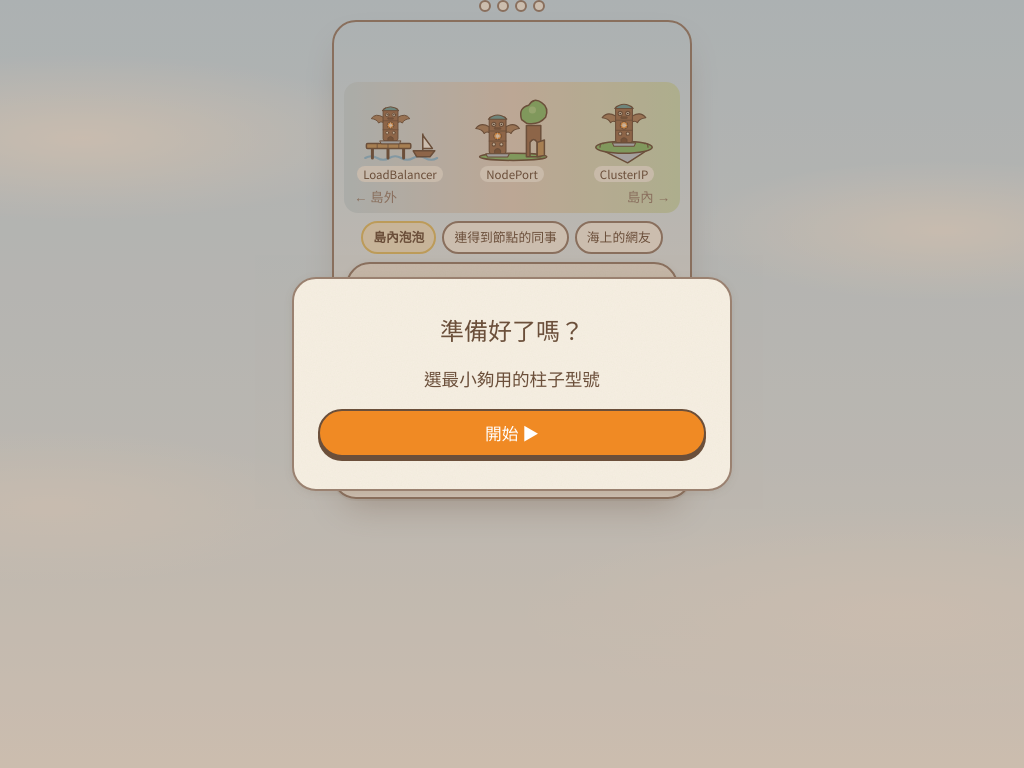
Scenario: Day15Game › 第 2 回合答錯後立刻鎖住選項，retry 後舊計時不會把新局翻回 lost
Click the button with test id "shell-start" at [512, 433], box [318,409,706,457]
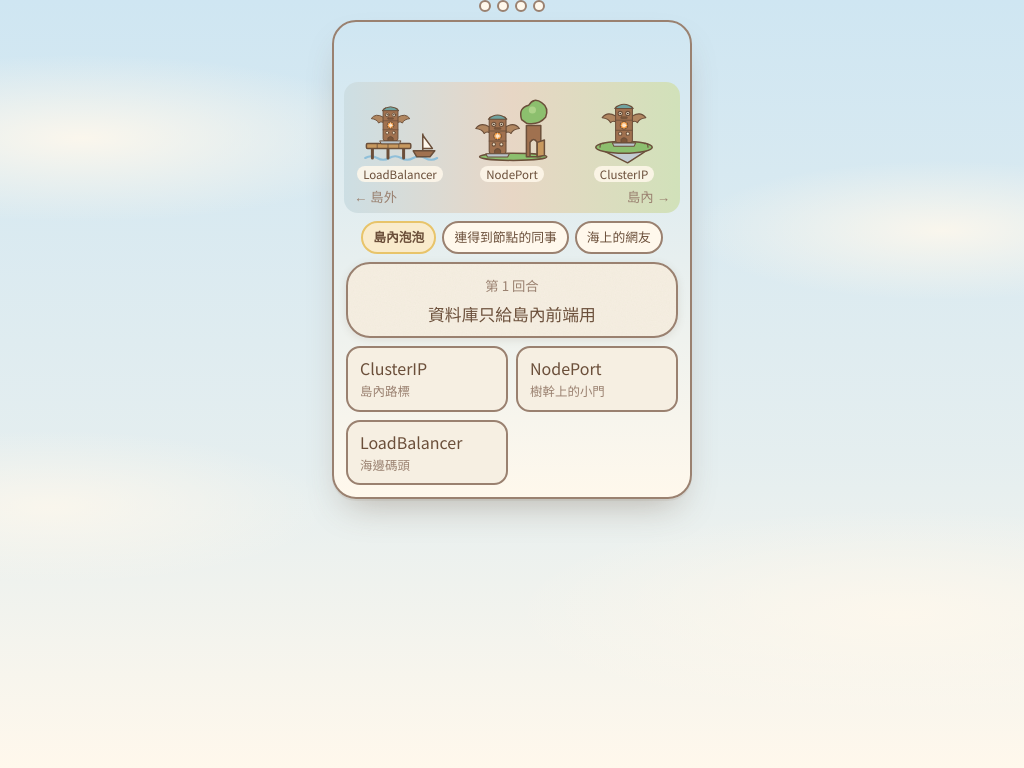
Click the button "NodePort 樹幹上的小門" at [597, 379], box [516,346,678,412]
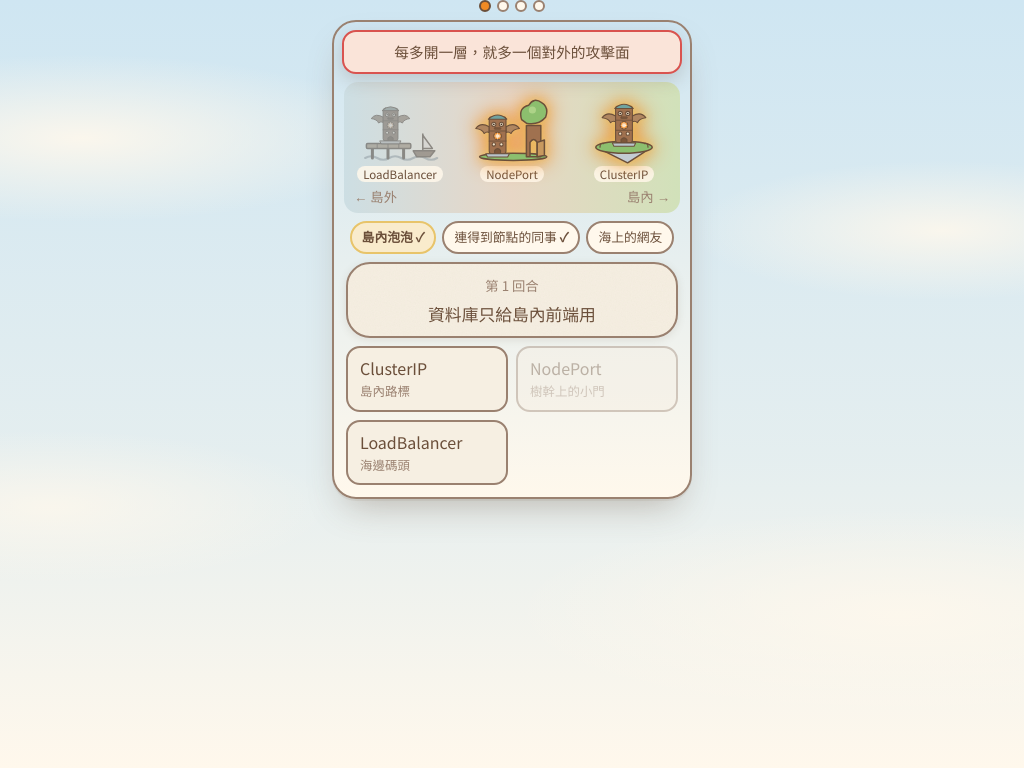
Click the button "ClusterIP 島內路標" at [427, 379], box [346,346,508,412]
Wait 1500 ms
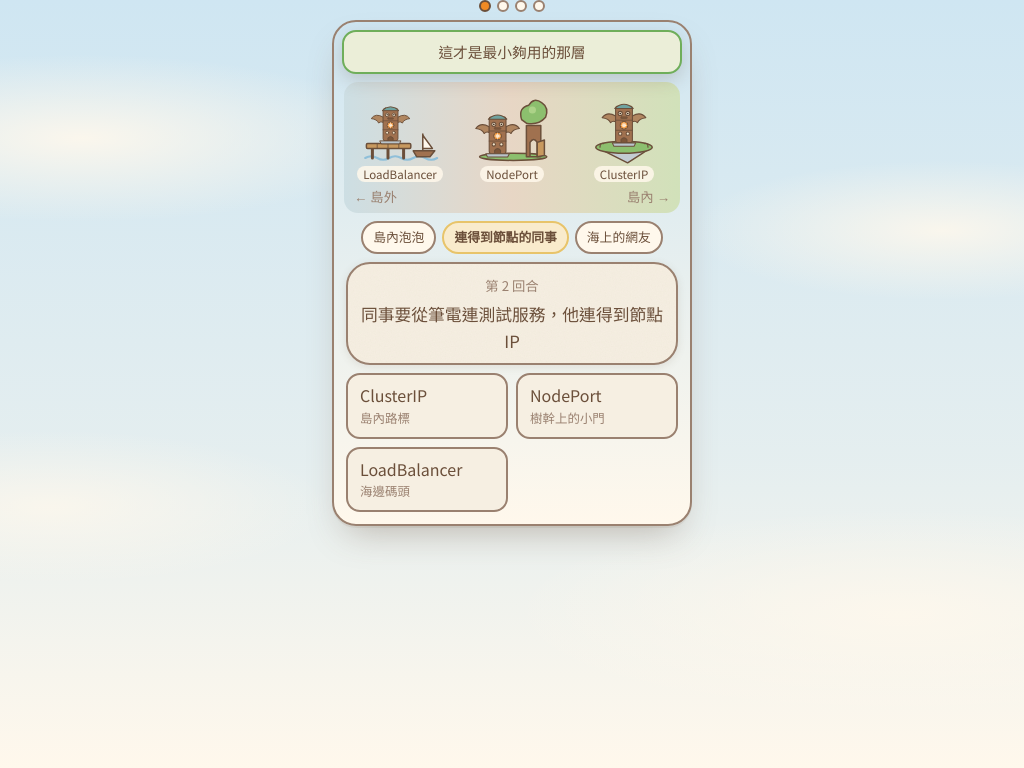
Click the button "ClusterIP 島內路標" at [427, 406], box [346,373,508,439]
Wait 1500 ms
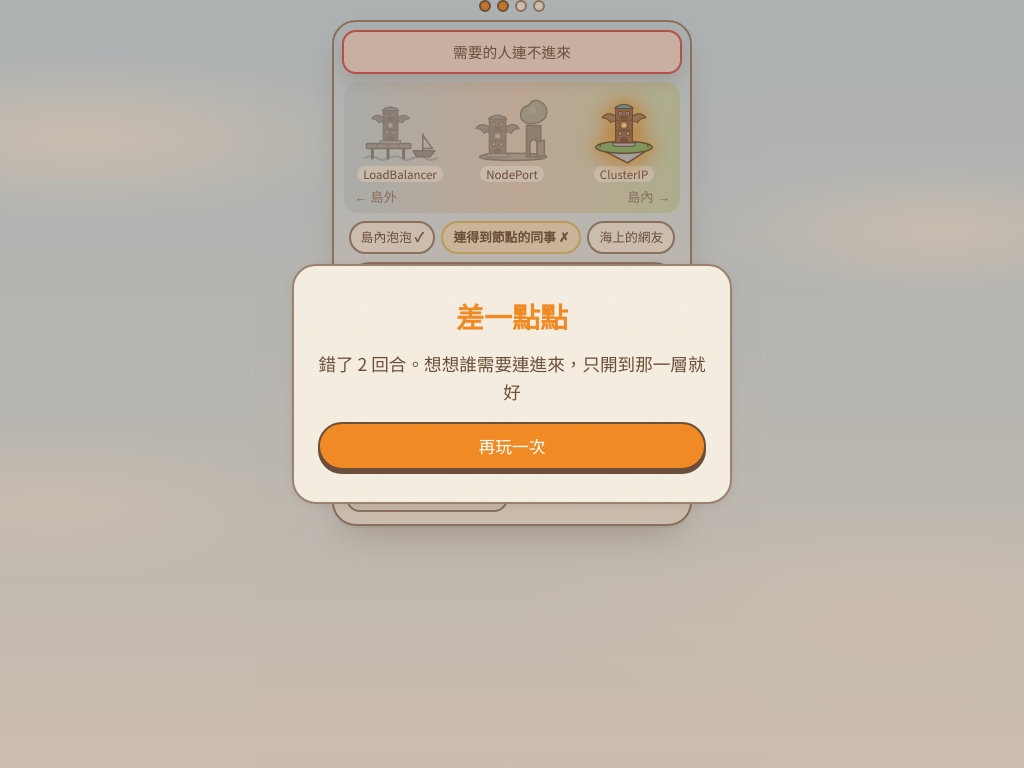
Expected: the element showing "ClusterIP 島內路標 NodePort 樹幹上的小門 LoadBalancer 海邊碼頭" is disabled, [346,373,678,512]
Click the button with test id "shell-retry" at [512, 446], box [318,422,706,470]
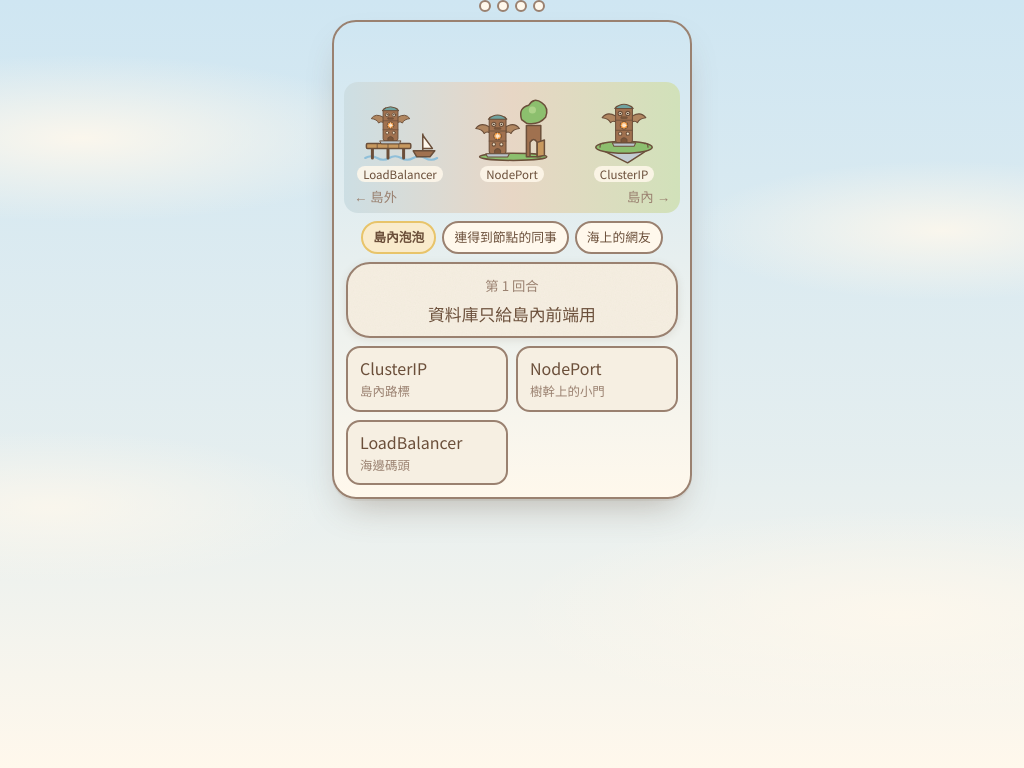
Click the button "ClusterIP 島內路標" at [427, 379], box [346,346,508,412]
Wait 3000 ms
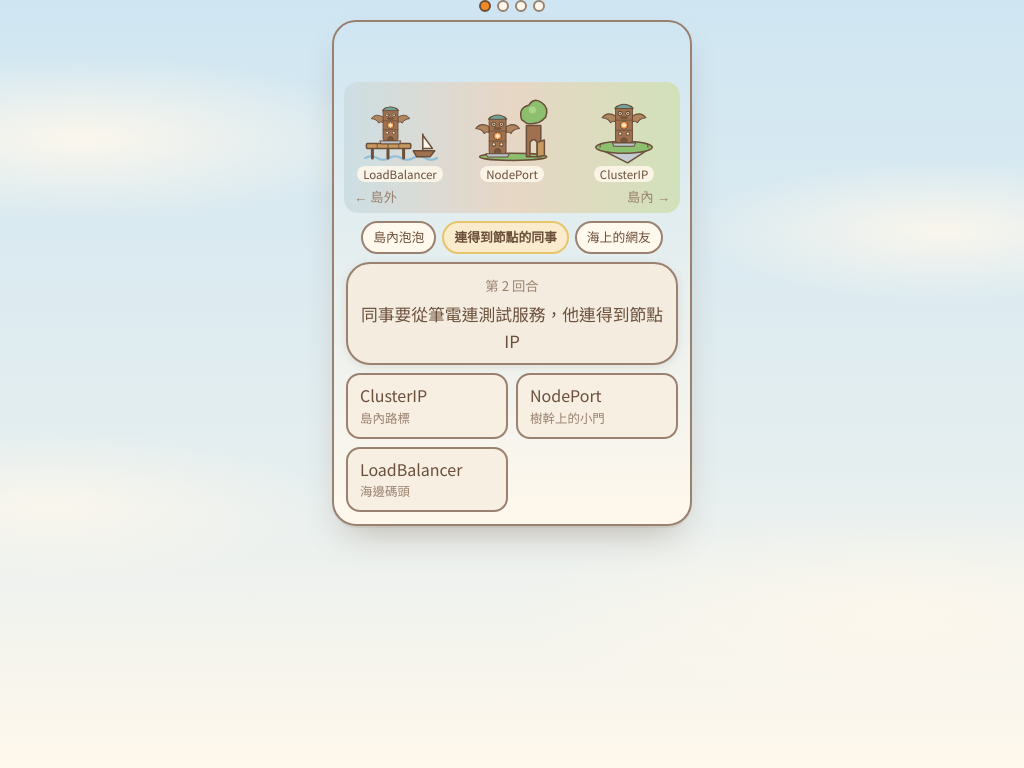
Expected: the text with test id "round" reads "第 2 回合", [485,276,539,295]
